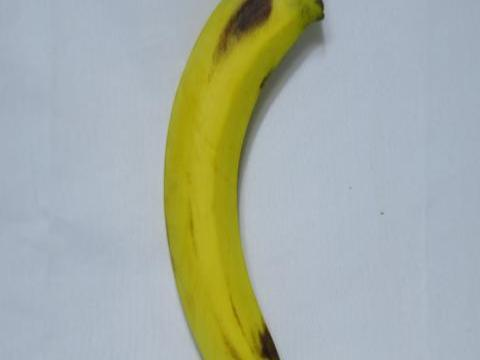freshripe: (153, 0, 330, 359)
